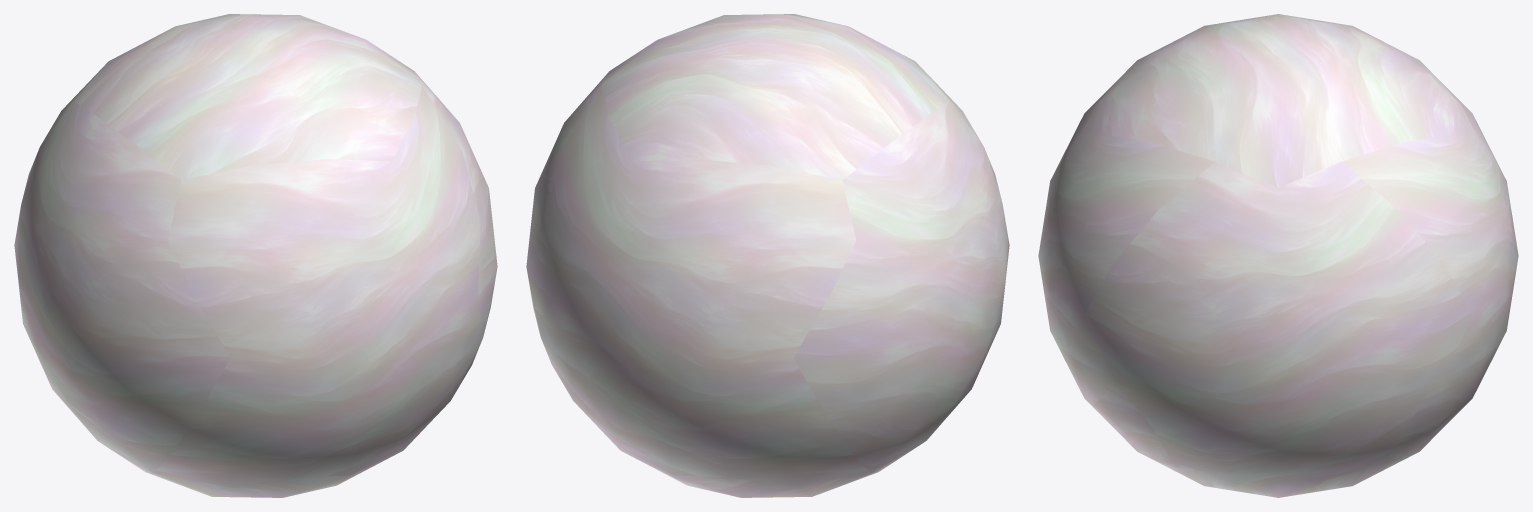
Rendered from pearl-C3CbMCBm.glb.
3 renders of one model, left to right at view 1: azimuth 30°, elevation 25°; view 2: azimuth 150°, elevation 25°; view 3: azimuth 270°, elevation 25°, orthographic.
Parts seen in each view (by area): view 1: HI_pearl; view 2: HI_pearl; view 3: HI_pearl.
Boxes of the visible parts, x1,y1,x2,y2 form: HI_pearl: [14, 14, 497, 497]; HI_pearl: [526, 14, 1009, 497]; HI_pearl: [1038, 14, 1518, 497].
Bounding box in the file's own units: 0.28 × 0.28 × 0.28.
1 material, 1 textured.
